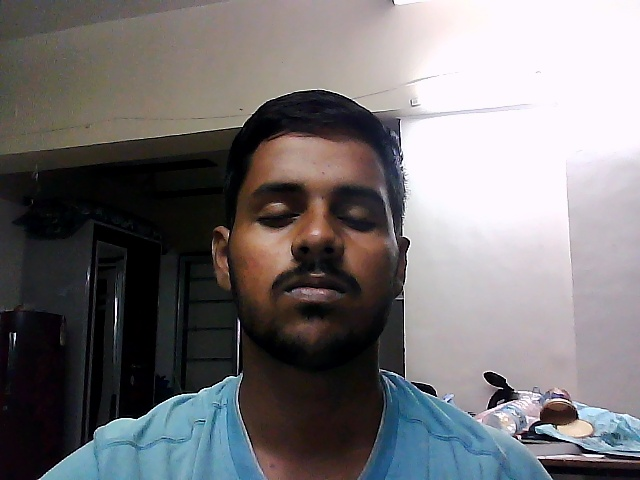drowsy: (203, 82, 426, 372)
